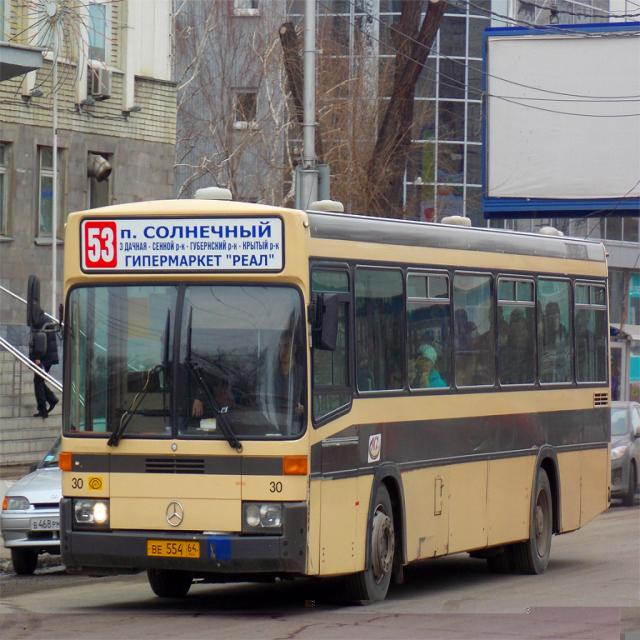number-of-bus: (85, 223, 120, 272)
